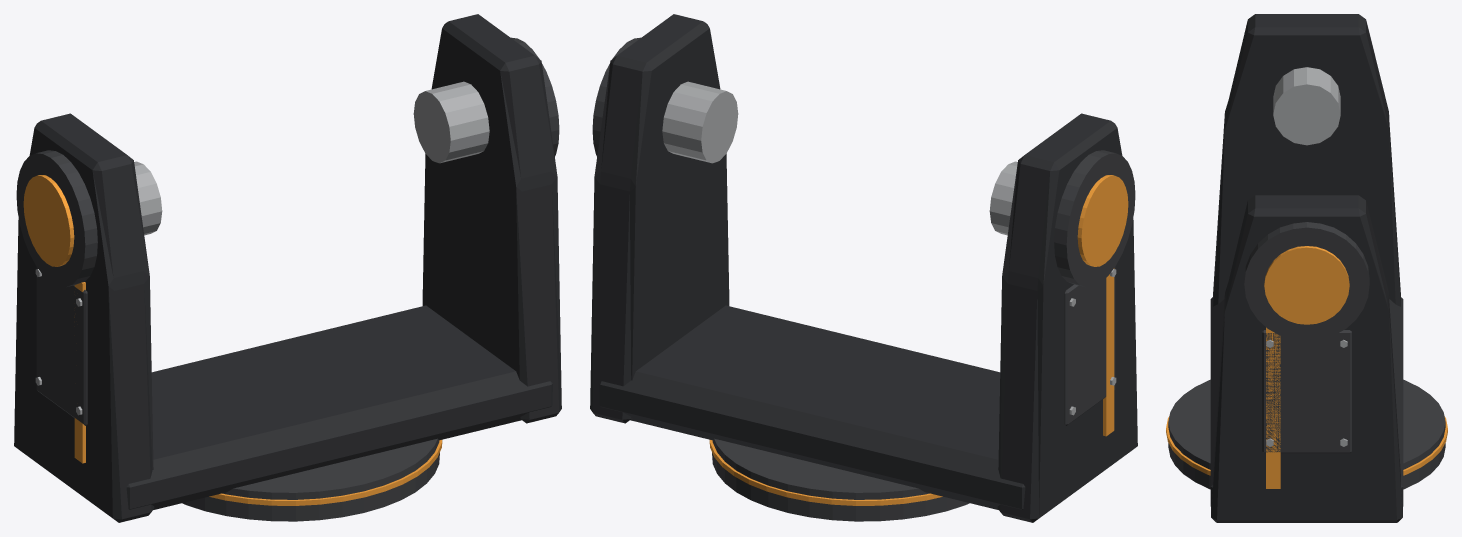
The model's file is csc_vortex_x1_yoke.obj.
3 views of the same model, side by side, from view 1: azimuth 30°, elevation 25°; view 2: azimuth 150°, elevation 25°; view 3: azimuth 270°, elevation 25° (orthographic). The views are drawn at different scales.
Parts seen in each view (by area): view 1: yoke_csc_2f3033, yoke_csc_3f4043, yoke_csc_adafb1, yoke_csc_f9a238; view 2: yoke_csc_2f3033, yoke_csc_3f4043, yoke_csc_f9a238, yoke_csc_adafb1; view 3: yoke_csc_2f3033, yoke_csc_3f4043, yoke_csc_f9a238, yoke_csc_adafb1.
Part boxes in pixels (x1,y1,x2,y2): yoke_csc_2f3033: (14, 14, 561, 522); yoke_csc_3f4043: (16, 37, 559, 521); yoke_csc_adafb1: (35, 81, 489, 415); yoke_csc_f9a238: (23, 175, 442, 505); yoke_csc_2f3033: (590, 14, 1137, 522); yoke_csc_3f4043: (592, 37, 1135, 521); yoke_csc_f9a238: (709, 175, 1128, 505); yoke_csc_adafb1: (662, 81, 1116, 415); yoke_csc_2f3033: (1210, 14, 1403, 522); yoke_csc_3f4043: (1168, 222, 1445, 489); yoke_csc_f9a238: (1166, 246, 1447, 488); yoke_csc_adafb1: (1266, 67, 1347, 446).
Bounding box in the file's own units: 0.8208 × 0.6008 × 0.4561.
